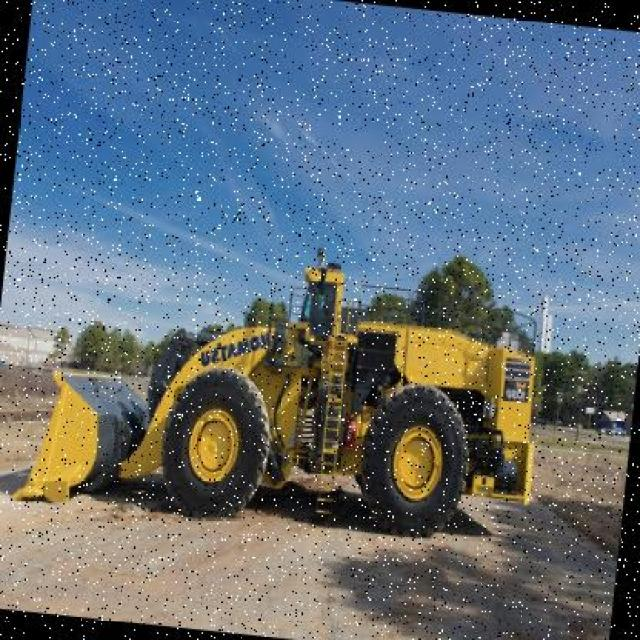buldozerpayloadergrader: (4, 218, 570, 572)
